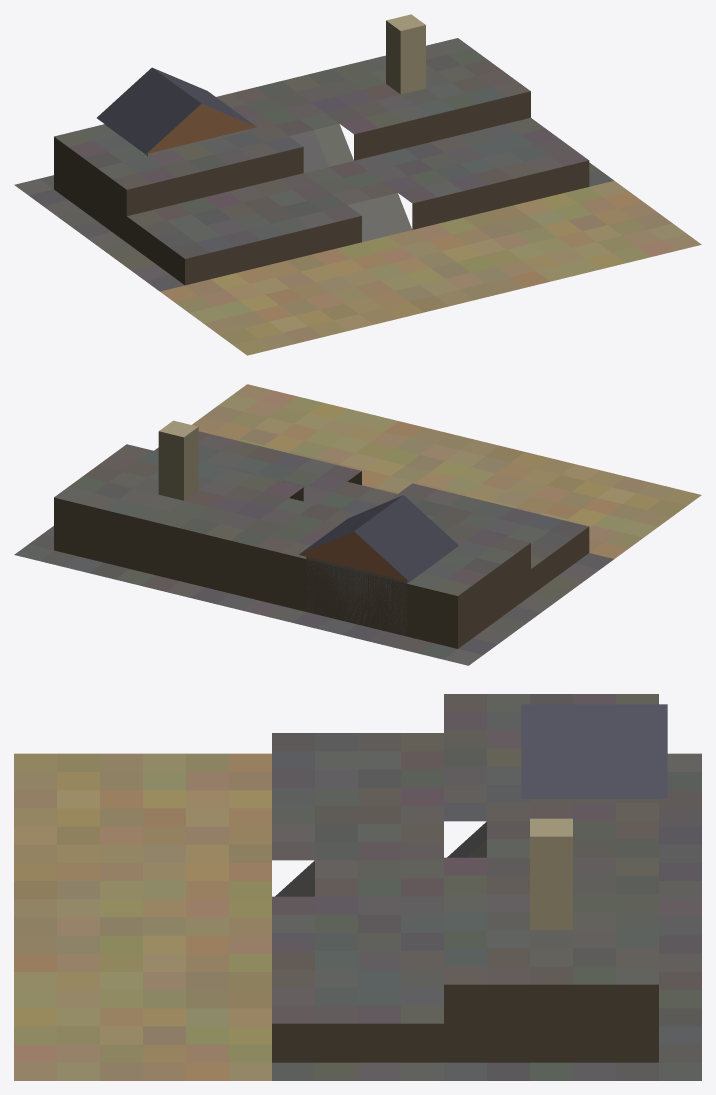
The picture shows the model from 3 angles, top to bottom: view 1: azimuth 30°, elevation 25°; view 2: azimuth 150°, elevation 25°; view 3: azimuth 270°, elevation 25°; orthographic projection. The views are drawn at different scales.
Parts seen in each view (by area): view 1: scenery; view 2: scenery; view 3: scenery.
Boxes of the visible parts, left/top/right/bottom form: scenery: left=14, top=14, right=701, bottom=355; scenery: left=14, top=384, right=701, bottom=665; scenery: left=14, top=694, right=701, bottom=1080.
Size of the model in its own units: 18 by 4.4 by 16.
